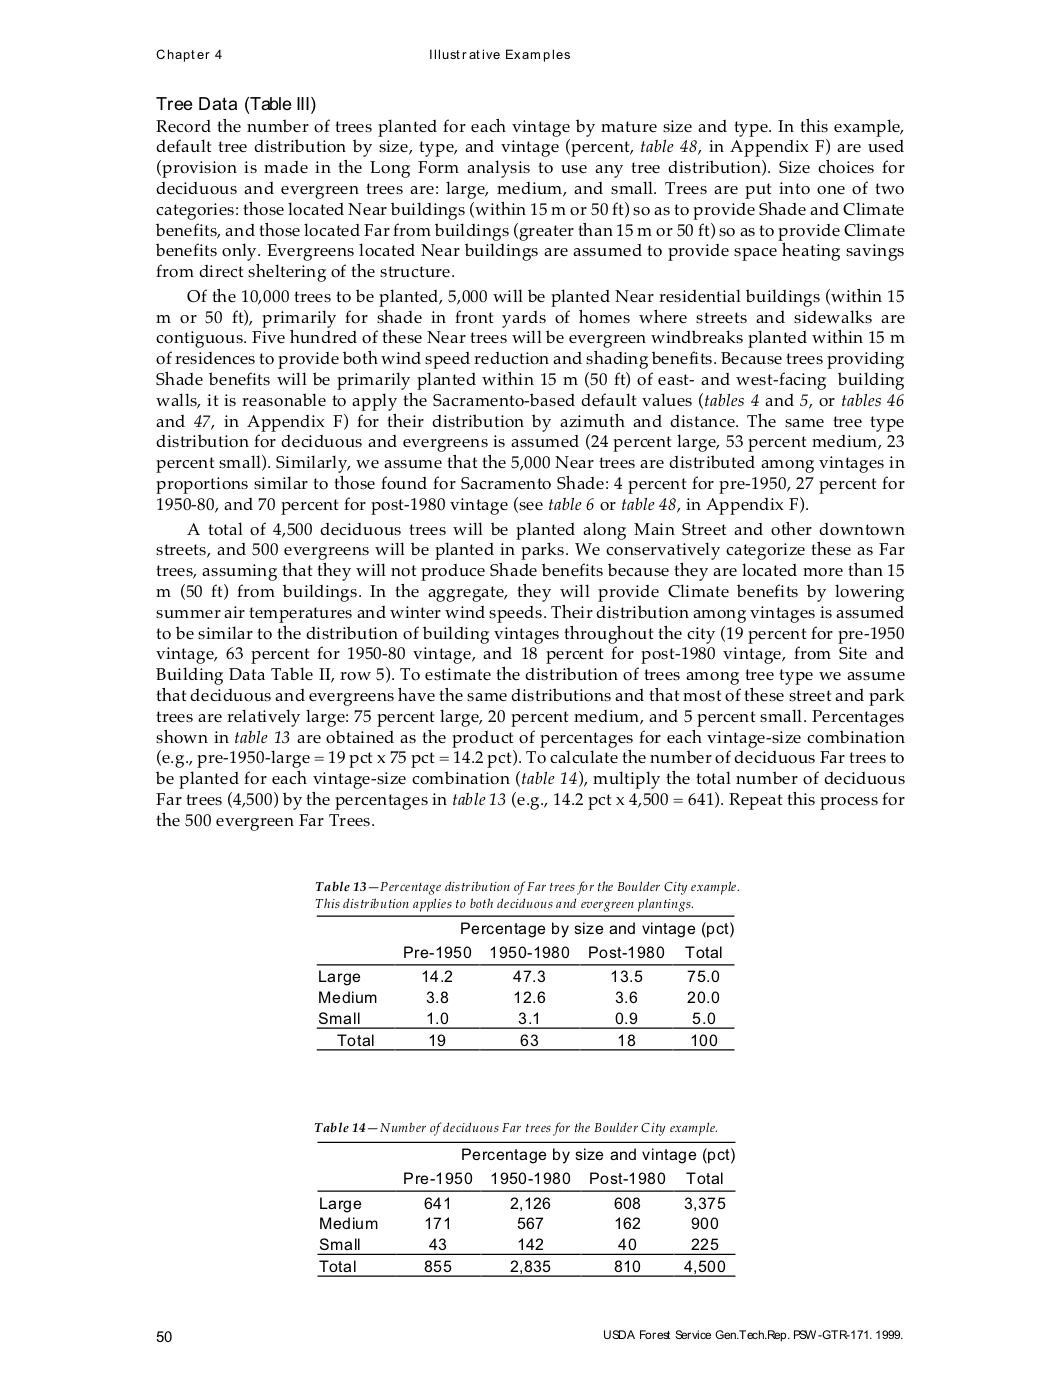Table: (317, 915, 734, 1050), (317, 1141, 734, 1276)
